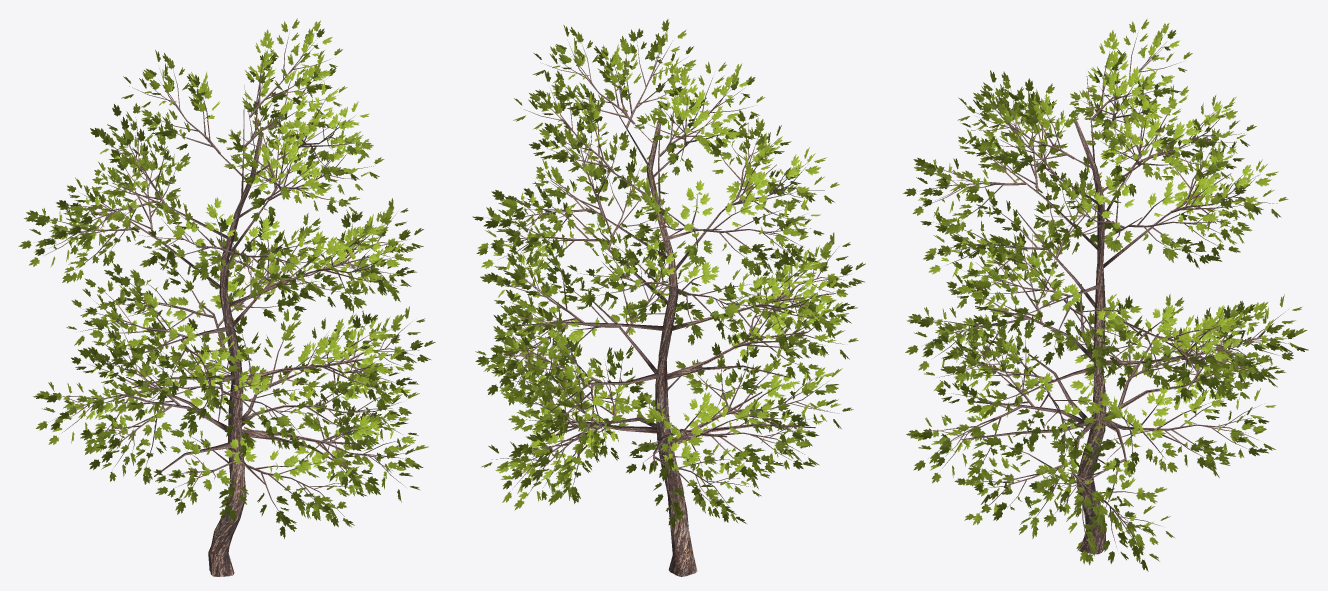
File: treeB.fbx
3 views of the same model, side by side, from view 1: azimuth 30°, elevation 25°; view 2: azimuth 150°, elevation 25°; view 3: azimuth 270°, elevation 25° (orthographic). The views are drawn at different scales.
Visible parts, largest first — view 1: TreeBLeaf, TreeB; view 2: TreeBLeaf, TreeB; view 3: TreeBLeaf, TreeB.
Part boxes in pixels (x1,y1,x2,y2): TreeBLeaf: [18, 18, 435, 538]; TreeB: [37, 34, 419, 576]; TreeBLeaf: [472, 19, 865, 528]; TreeB: [488, 42, 848, 576]; TreeBLeaf: [903, 19, 1308, 571]; TreeB: [922, 33, 1289, 554].
Bounding box in the file's own units: 6.74 × 9.27 × 6.55.
